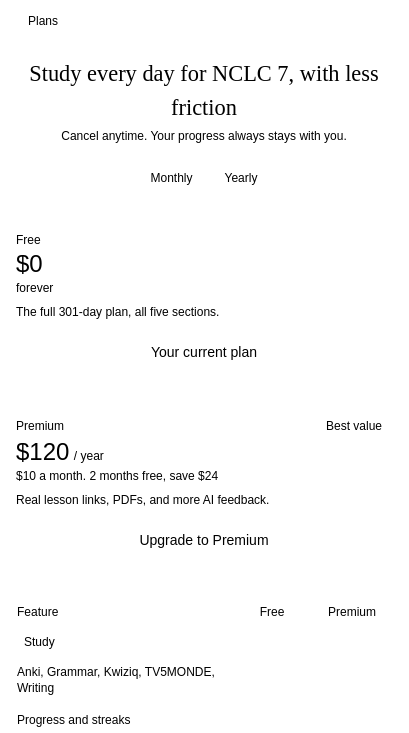
Scenario: Plans screen › sends the chosen plan to checkout
Click the button "Monthly" at [172, 178], box [134,164,208,192]
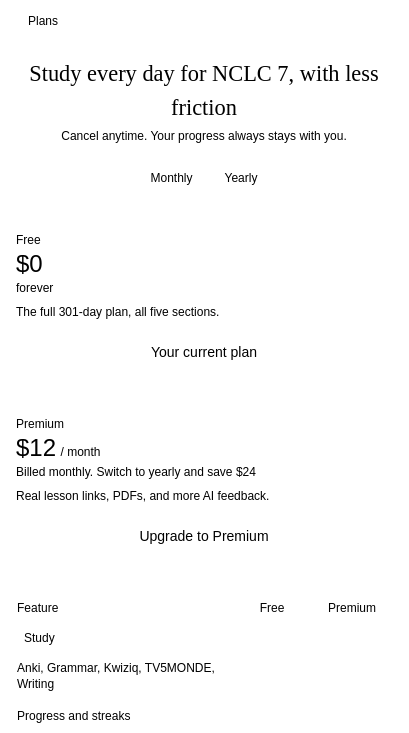
Click the button "Upgrade to Premium" at [204, 536], box [16,516,392,556]
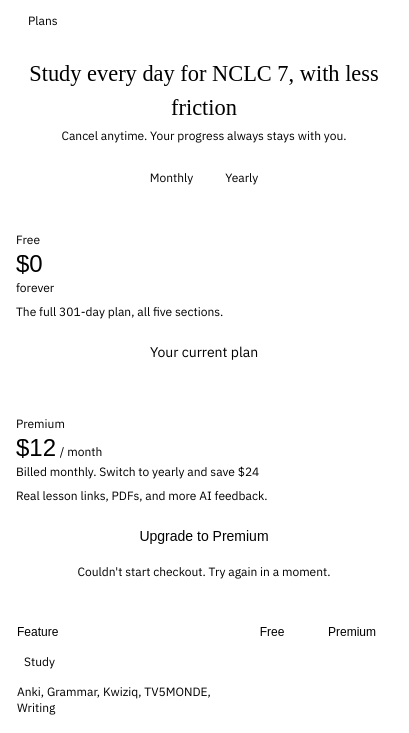
Expected: the message shows "Couldn't start checkout", [78,564,330,579]
